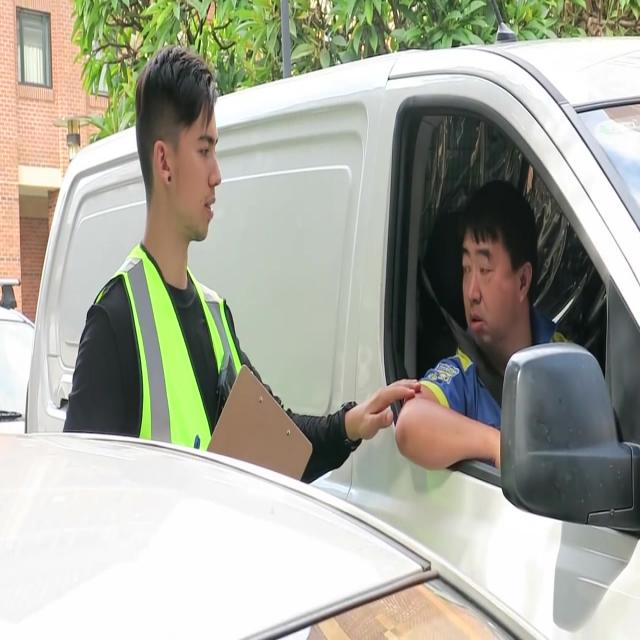Reflective-Jacket: (86, 239, 252, 450)
